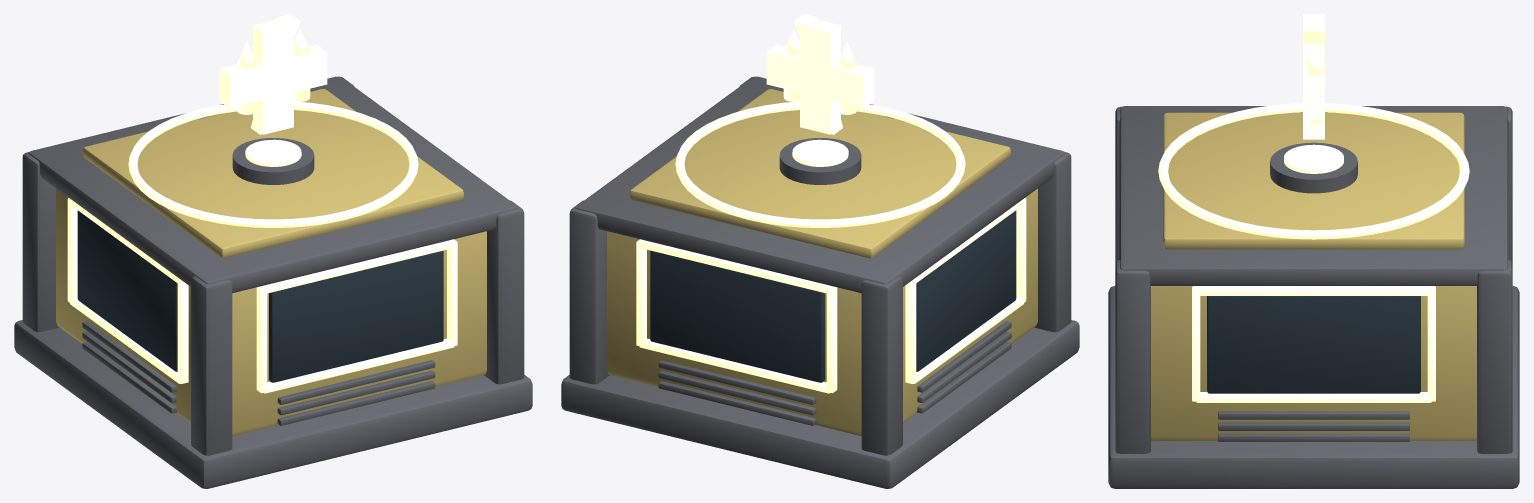
File: buy_station.glb
3 views of the same model, side by side, from view 1: azimuth 30°, elevation 25°; view 2: azimuth 150°, elevation 25°; view 3: azimuth 270°, elevation 25° (orthographic). The views are drawn at different scales.
Parts seen in each view (by area): view 1: Station, IconHealth, IconAmmo, IconDamage; view 2: Station, IconHealth, IconDamage, IconAmmo; view 3: Station, IconHealth, IconAmmo.
Boxes of the visible parts, x1,y1,x2,y2 form: Station: [14, 76, 532, 488]; IconHealth: [219, 20, 327, 134]; IconAmmo: [236, 28, 310, 114]; IconDamage: [248, 14, 308, 134]; Station: [561, 76, 1079, 488]; IconHealth: [766, 20, 874, 134]; IconDamage: [785, 14, 843, 134]; IconAmmo: [783, 28, 857, 114]; Station: [1108, 103, 1519, 488]; IconHealth: [1303, 14, 1324, 139]; IconAmmo: [1303, 46, 1324, 124].
Size of the model in its own units: 1.5 by 1.55 by 1.5.
